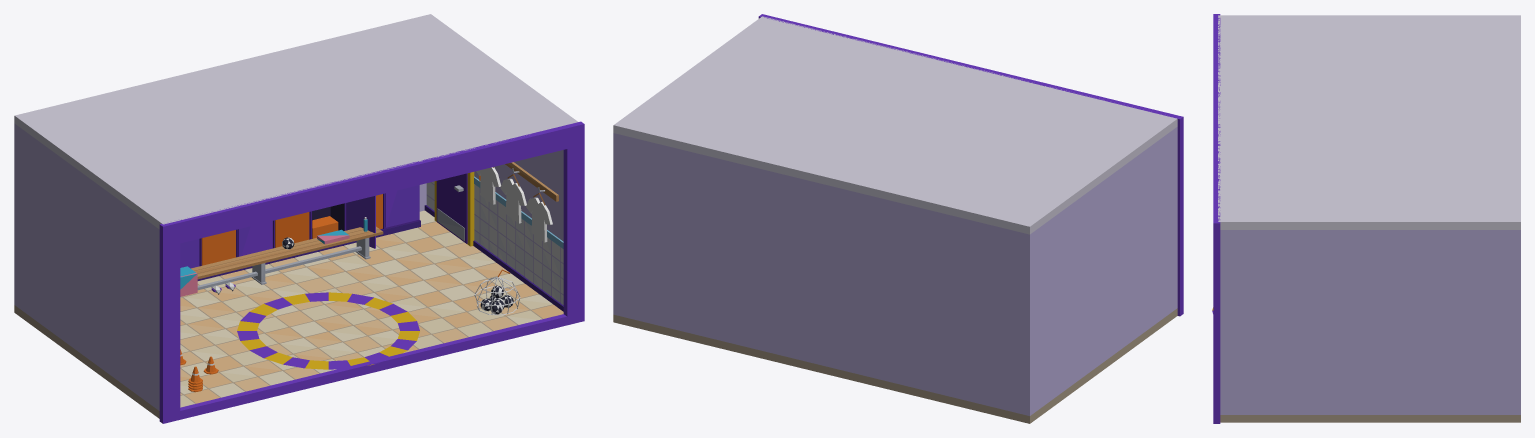
The model's file is locker-room.glb.
3 views of the same model, side by side, from view 1: azimuth 30°, elevation 25°; view 2: azimuth 150°, elevation 25°; view 3: azimuth 270°, elevation 25° (orthographic).
Parts seen in each view (by area): view 1: locker-room, Shirts; view 2: locker-room; view 3: locker-room.
Part boxes in pixels (<box>): locker-room: <box>14,14,584,423</box>; Shirts: <box>476,167,552,242</box>; locker-room: <box>613,14,1183,423</box>; locker-room: <box>1212,14,1520,423</box>.
Size of the model in its own units: 8.5 by 3.8 by 5.3.
